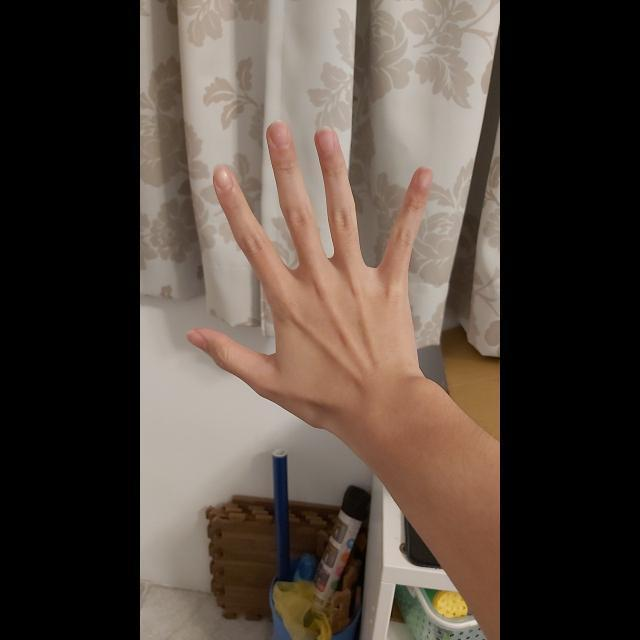bare_hand: (185, 122, 434, 407)
